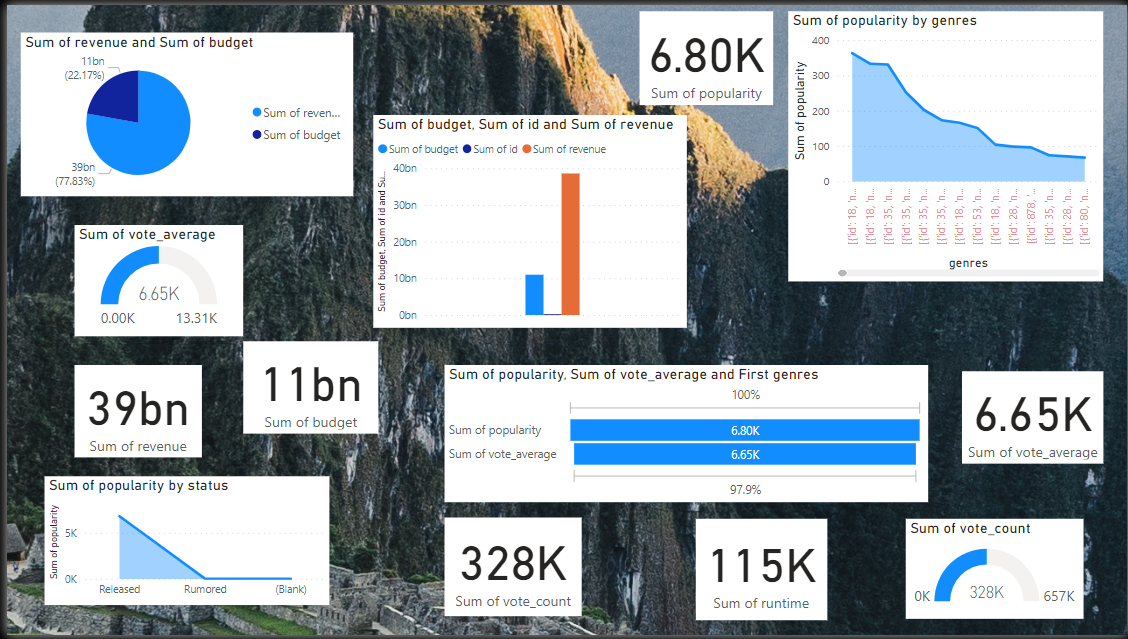

The page's visual inventory and layout, read from the dashboard file:
{"tool":"powerbi","page":{"name":"Page 1","canvas":[1280,720],"ordinal":0},"visuals":[{"type":"pieChart","fields":{"Y":["Sum(Sheet1.revenue)","Sum(Sheet1.budget)"]},"box":[10,0,401.4,258.6],"z":0},{"type":"clusteredColumnChart","fields":{"Y":["Sum(Sheet1.budget)","Sum(Sheet1.id)","Sum(Sheet1.revenue)"]},"box":[474.3,12.9,424.3,377.1],"z":1},{"type":"gauge","fields":{"Y":["Sum(Sheet1.vote_average)"]},"box":[10,248.6,222.9,141.4],"z":2},{"type":"gauge","fields":{"Y":["Sum(Sheet1.vote_count)"]},"box":[252.9,248.6,221.4,128.6],"z":3},{"type":"stackedAreaChart","fields":{"Category":["Sheet1.status"],"Y":["Sum(Sheet1.popularity)"]},"box":[25.7,407.1,505.7,168.6],"z":4},{"type":"funnel","fields":{"Y":["Sum(Sheet1.popularity)","Sum(Sheet1.vote_average)"]},"box":[554.3,418.6,722.9,167.1],"z":5},{"type":"stackedAreaChart","fields":{"Category":["Sheet1.genres"],"Y":["Sum(Sheet1.popularity)"]},"box":[860,12.9,420,405.7],"z":6},{"type":"card","fields":{"Values":["Sum(Sheet1.revenue)"]},"box":[25.7,575.7,177.1,115.7],"z":8},{"type":"card","fields":{"Values":["Sum(Sheet1.budget)"]},"box":[228.6,575.7,270,115.7],"z":9},{"type":"card","fields":{"Values":["Sum(Sheet1.runtime)"]},"box":[498.6,577.1,221.4,115.7],"z":10},{"type":"card","fields":{"Values":["Sum(Sheet1.popularity)"]},"box":[357.1,390,197.1,114.3],"z":11},{"type":"card","fields":{"Values":["Sum(Sheet1.vote_count)"]},"box":[765.7,592.9,188.6,98.6],"z":12},{"type":"card","fields":{"Values":["Sum(Sheet1.vote_average)"]},"box":[1058.6,585.7,181.4,112.9],"z":13}]}

Visuals, with their boxes in screenshot pixels (x1, y1, x2, y2), scaled from the page's 1280x720 canvas onto the 1128x639 screenshot:
pieChart - Sum(Sheet1.revenue) x Sum(Sheet1.budget): pyautogui.locateOnScreen(9, 0, 363, 230)
clusteredColumnChart - Sum(Sheet1.budget) x Sum(Sheet1.id): pyautogui.locateOnScreen(418, 11, 792, 346)
gauge - Sum(Sheet1.vote_average): pyautogui.locateOnScreen(9, 221, 205, 346)
gauge - Sum(Sheet1.vote_count): pyautogui.locateOnScreen(223, 221, 418, 335)
stackedAreaChart - Sheet1.status x Sum(Sheet1.popularity): pyautogui.locateOnScreen(23, 361, 468, 511)
funnel - Sum(Sheet1.popularity) x Sum(Sheet1.vote_average): pyautogui.locateOnScreen(488, 372, 1126, 520)
stackedAreaChart - Sheet1.genres x Sum(Sheet1.popularity): pyautogui.locateOnScreen(758, 11, 1127, 372)
card - Sum(Sheet1.revenue): pyautogui.locateOnScreen(23, 511, 179, 614)
card - Sum(Sheet1.budget): pyautogui.locateOnScreen(201, 511, 439, 614)
card - Sum(Sheet1.runtime): pyautogui.locateOnScreen(439, 512, 634, 615)
card - Sum(Sheet1.popularity): pyautogui.locateOnScreen(315, 346, 488, 448)
card - Sum(Sheet1.vote_count): pyautogui.locateOnScreen(675, 526, 841, 614)
card - Sum(Sheet1.vote_average): pyautogui.locateOnScreen(933, 520, 1093, 620)
